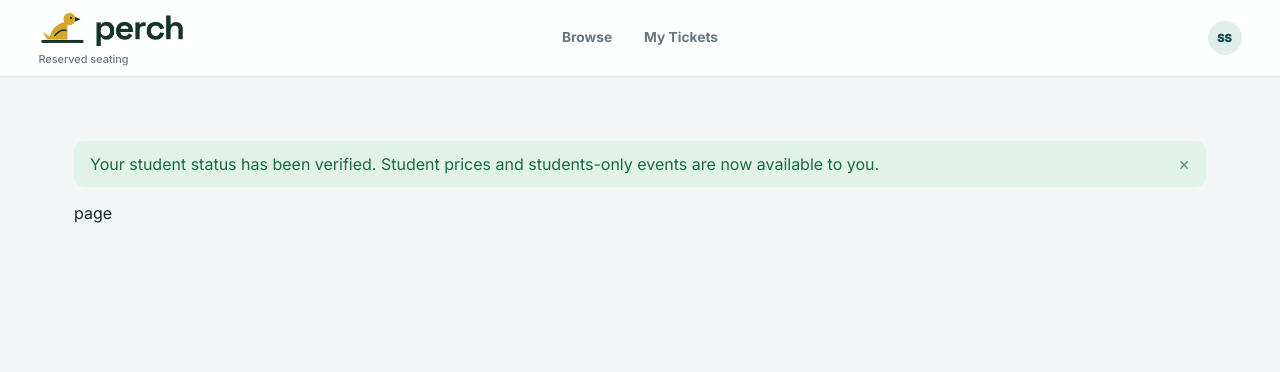
Test: student verification (US 12) › an approval is announced once and unlocks student status
This screenshot has width=1280, height=372.
Expected: the text "Your student status has been verified" is shown, [90,154,879,174]
Click the button with aria-label "Account menu". click: (1225, 38)
box: [1208,21,1242,55]
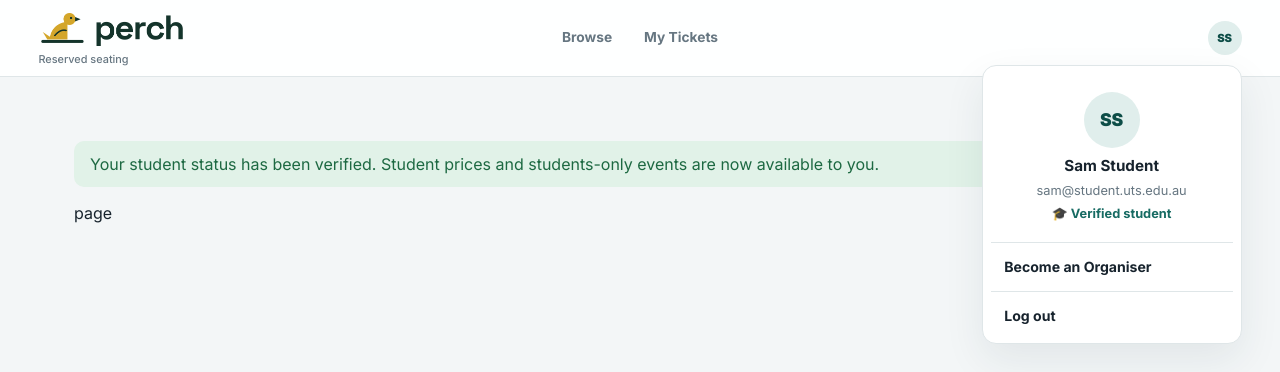
Expected: the text "🎓 Verified student" is shown, [1052,206,1172,221]
